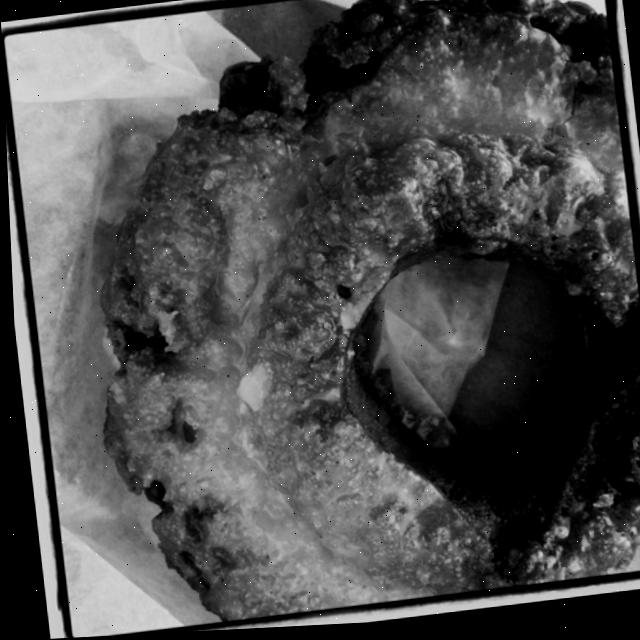炸货点心: (18, 0, 640, 631)
